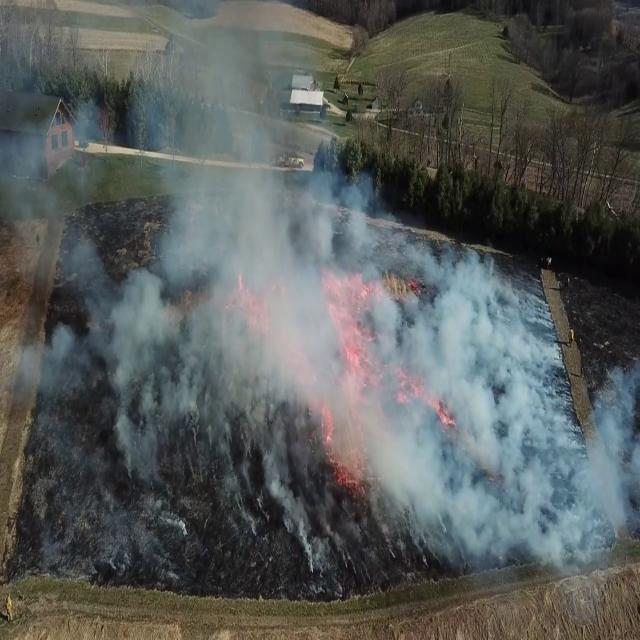Smoke: (162, 168, 631, 580), (0, 0, 316, 333)
